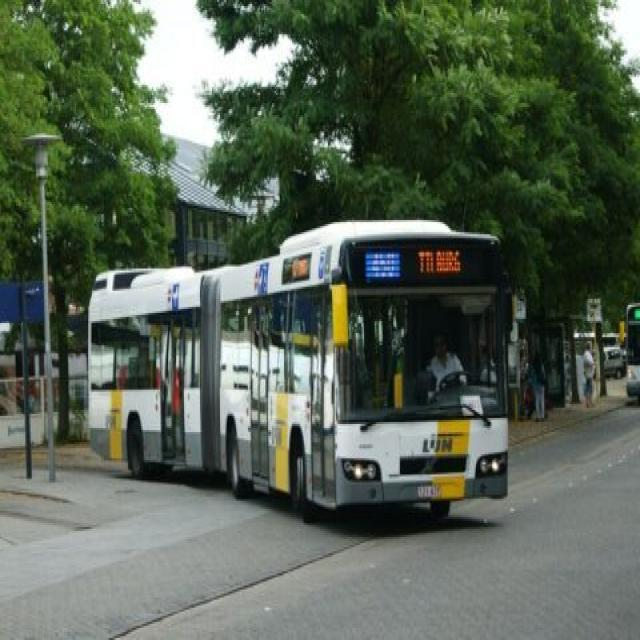bus-number: (369, 253, 397, 279)
